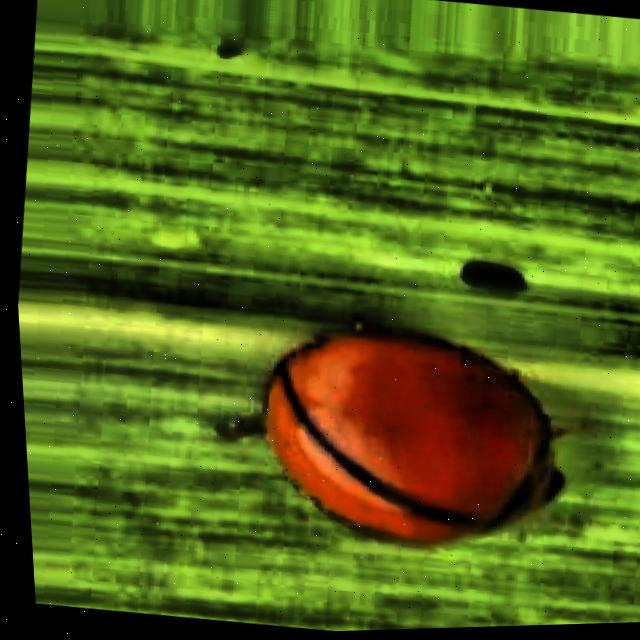Ladybug: (159, 269, 640, 633)
